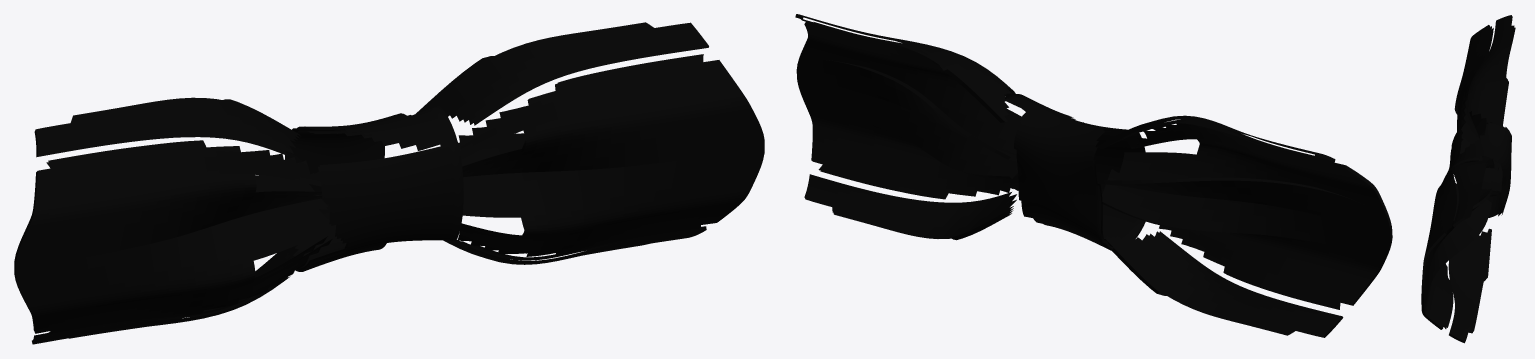
The model's file is BowtieDottedBlack.fbx.
The picture shows the model from 3 angles, left to right: view 1: azimuth 30°, elevation 25°; view 2: azimuth 150°, elevation 25°; view 3: azimuth 270°, elevation 25°; orthographic projection. The views are drawn at different scales.
Visible parts, largest first — view 1: Cylinder.005; view 2: Cylinder.005; view 3: Cylinder.005.
Boxes of the visible parts, left/top/right/bottom form: Cylinder.005: left=14, top=22, right=764, bottom=344; Cylinder.005: left=795, top=14, right=1392, bottom=337; Cylinder.005: left=1421, top=15, right=1515, bottom=343.
Size of the model in its own units: 157 by 51.21 by 30.6.
